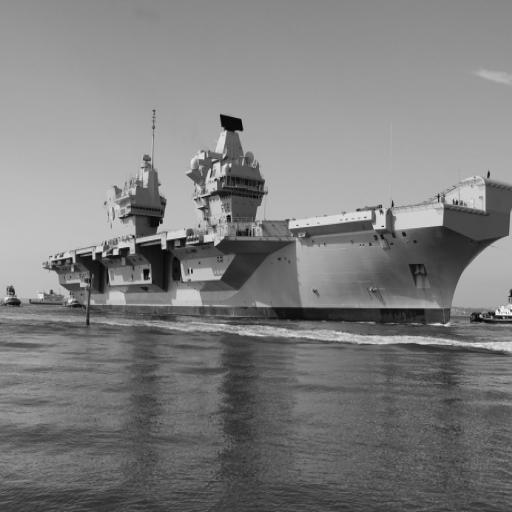Portanaves: (42, 107, 512, 329)
